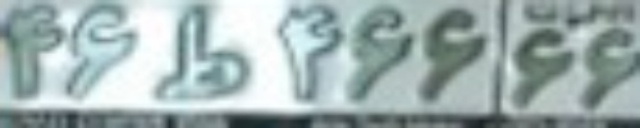4: (276, 6, 339, 100), (4, 3, 61, 99)
6: (69, 3, 137, 99), (347, 6, 411, 101), (419, 8, 484, 101), (511, 27, 572, 107), (582, 28, 637, 108)
taa: (156, 3, 247, 98)
